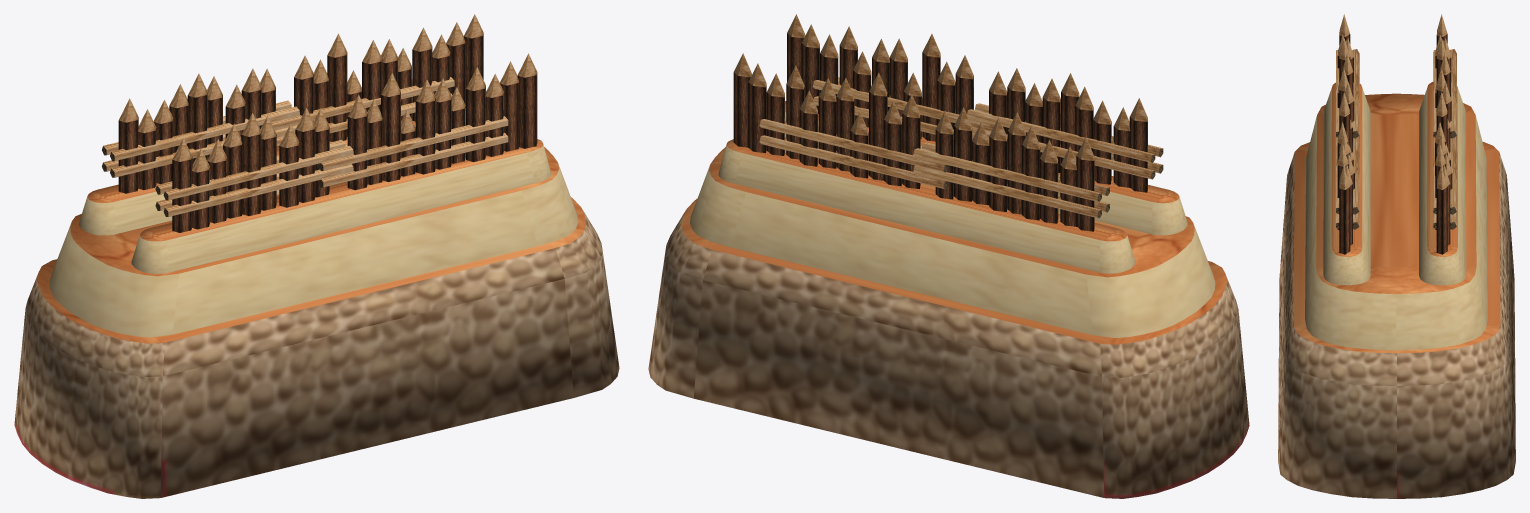
The model's file is wall_med.dae.
The picture shows the model from 3 angles, left to right: view 1: azimuth 30°, elevation 25°; view 2: azimuth 150°, elevation 25°; view 3: azimuth 270°, elevation 25°; orthographic projection. The views are drawn at different scales.
Visible parts, largest first — view 1: wall_med; view 2: wall_med; view 3: wall_med.
Part boxes in pixels (x1,y1,x2,y2): wall_med: [14, 14, 619, 498]; wall_med: [648, 14, 1249, 498]; wall_med: [1278, 14, 1515, 498].
Bounding box in the file's own units: 28.3 × 11.66 × 16.41.
Materials: 1 (1 with a texture image).
